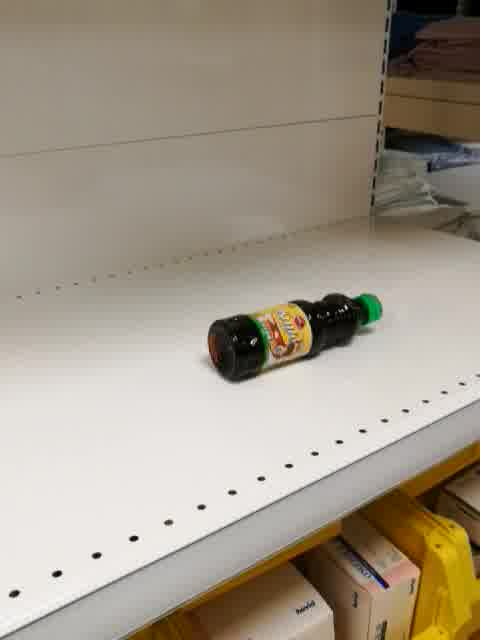cookingoil: (206, 292, 384, 383)
